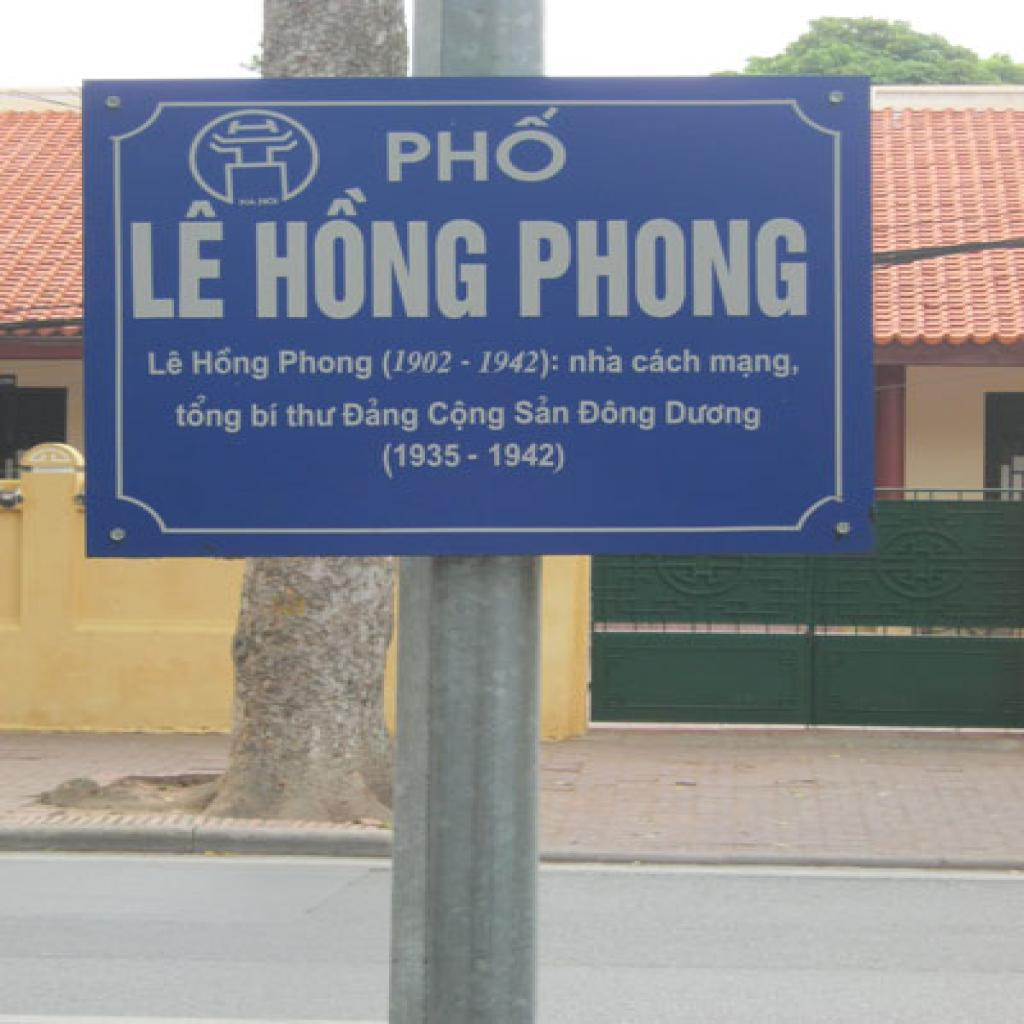text: (507, 215, 814, 327), (251, 186, 494, 325), (379, 106, 578, 188), (130, 198, 230, 323), (663, 392, 768, 434), (381, 436, 466, 484), (276, 344, 376, 384), (425, 394, 509, 438), (474, 344, 563, 384), (340, 394, 422, 436), (189, 344, 274, 384), (174, 394, 248, 438), (576, 398, 660, 434), (384, 344, 458, 384), (709, 350, 807, 380), (512, 392, 573, 430), (632, 346, 704, 378), (566, 344, 627, 380), (284, 398, 341, 434), (144, 346, 190, 378), (248, 400, 284, 432), (463, 449, 484, 465), (258, 196, 282, 207), (238, 198, 259, 209), (460, 355, 474, 371)
